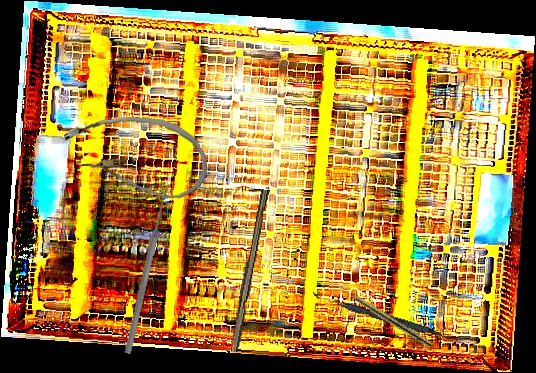Cannula: (59, 112, 211, 201)
Handpiece: (336, 283, 434, 349)
Pusher: (123, 191, 170, 355)
Scalpel Handle: (227, 188, 270, 353)
Spatula Surgical: (310, 292, 460, 343)
